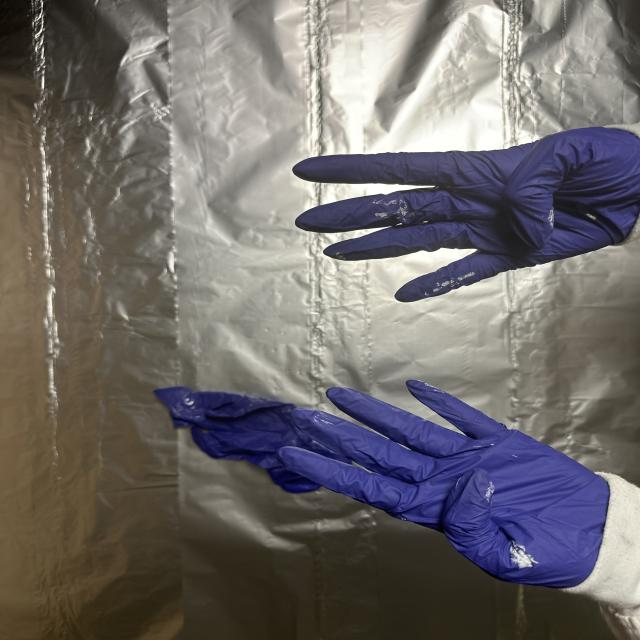gloves_contaminated: (278, 380, 610, 588), (294, 127, 640, 302)
